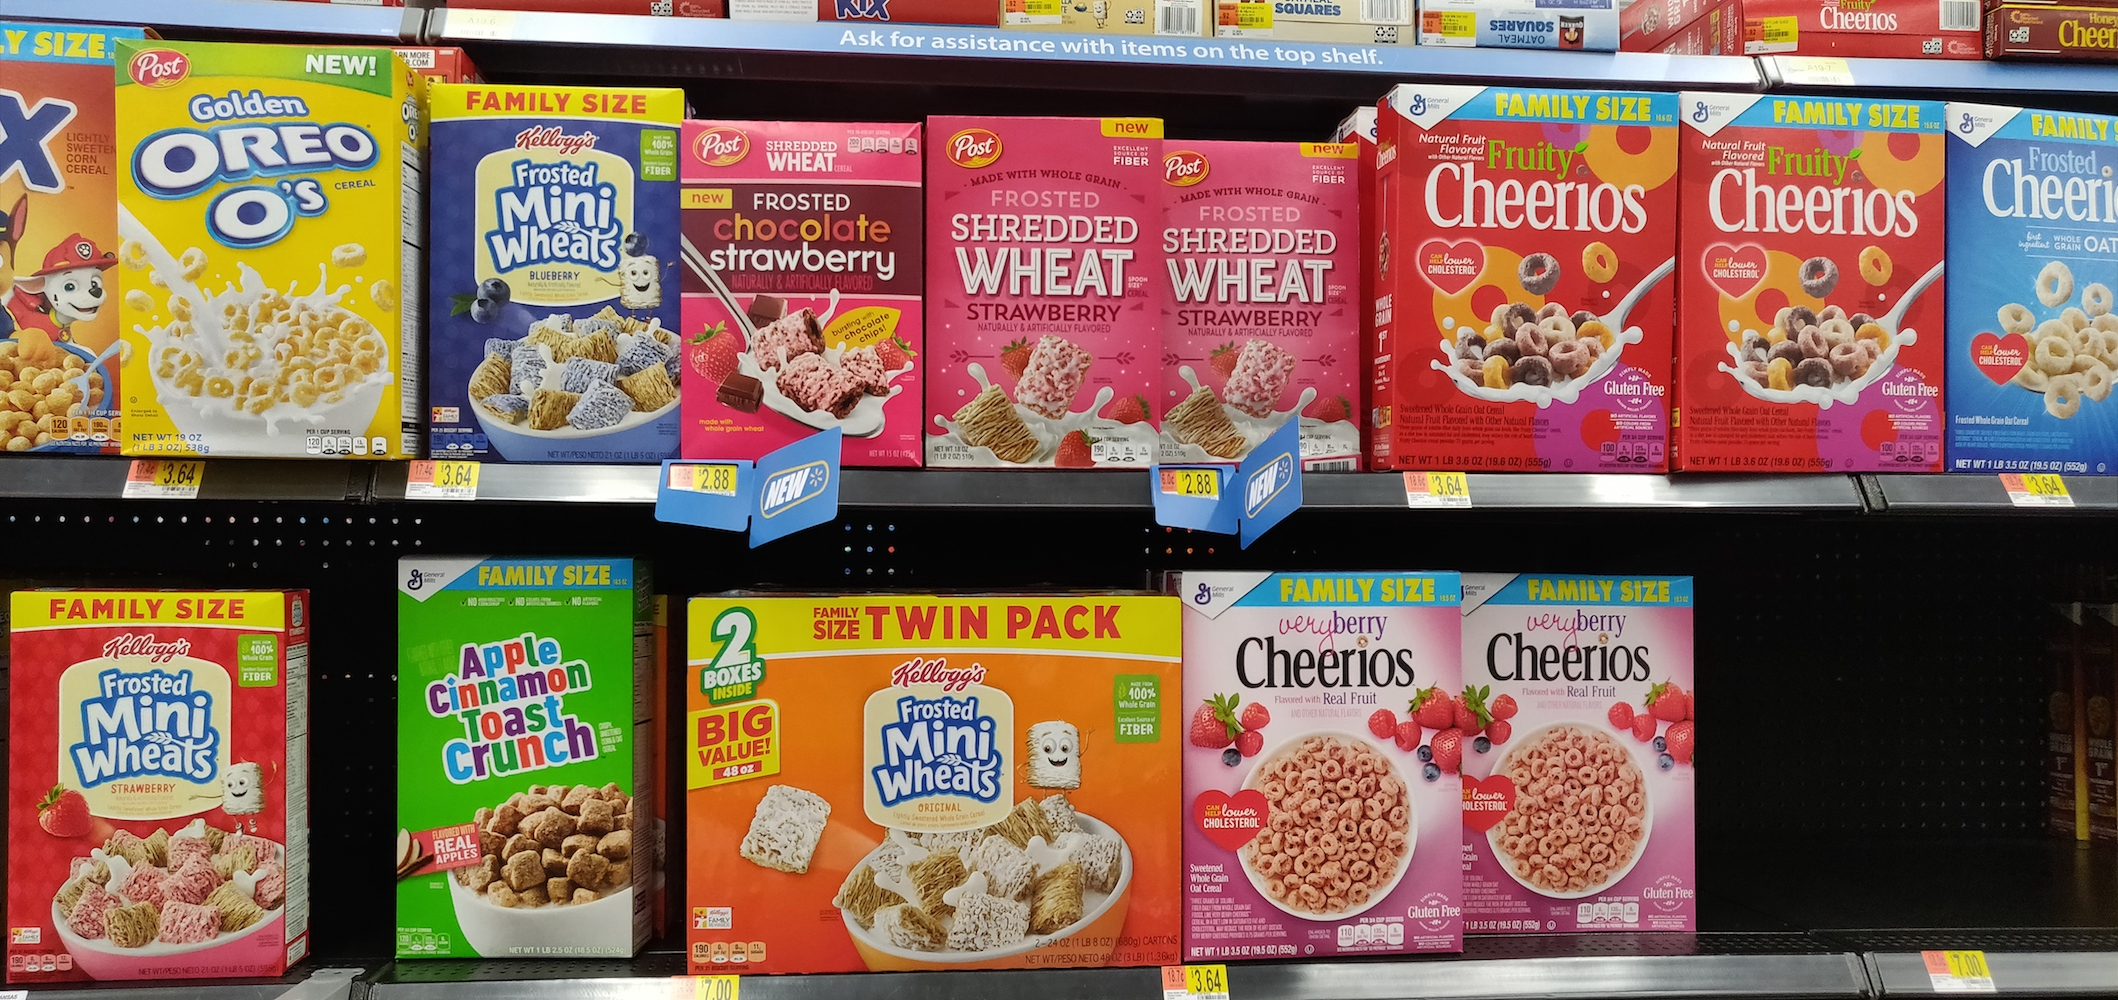Mini Wheats Straw-567084832: (9, 591, 294, 978)
Oreo Golden-568301011: (113, 38, 413, 455)
